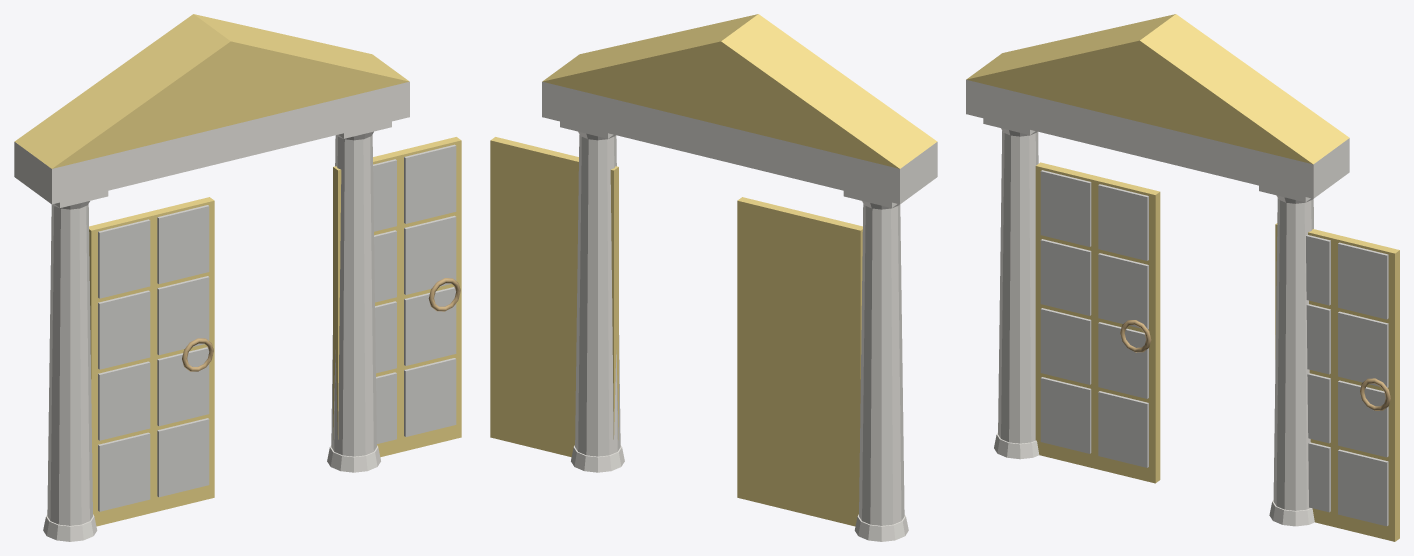
The model's file is mythic-underworld-and-olympus-golden-gate-4558df77__21385.glb.
The picture shows the model from 3 angles, left to right: view 1: azimuth 30°, elevation 25°; view 2: azimuth 150°, elevation 25°; view 3: azimuth 330°, elevation 25°; orthographic projection. The views are drawn at different scales.
Parts seen in each view (by area): view 1: golden-gate, gate-left (×2), gate-right (×2); view 2: golden-gate, gate-left, gate-right; view 3: golden-gate, gate-left (×2), gate-right (×2).
Boxes of the visible parts, left/top/right/bottom form: golden-gate: left=14, top=14, right=409, bottom=541; gate-left (×2): left=89, top=197, right=214, bottom=526; gate-right (×2): left=333, top=137, right=461, bottom=457; golden-gate: left=542, top=14, right=937, bottom=541; gate-left: left=737, top=197, right=862, bottom=526; gate-right: left=490, top=137, right=618, bottom=457; golden-gate: left=966, top=14, right=1349, bottom=526; gate-left (×2): left=1035, top=162, right=1160, bottom=483; gate-right (×2): left=1275, top=223, right=1399, bottom=541.
Bounding box in the file's own units: 6.9 × 7.25 × 1.05.
